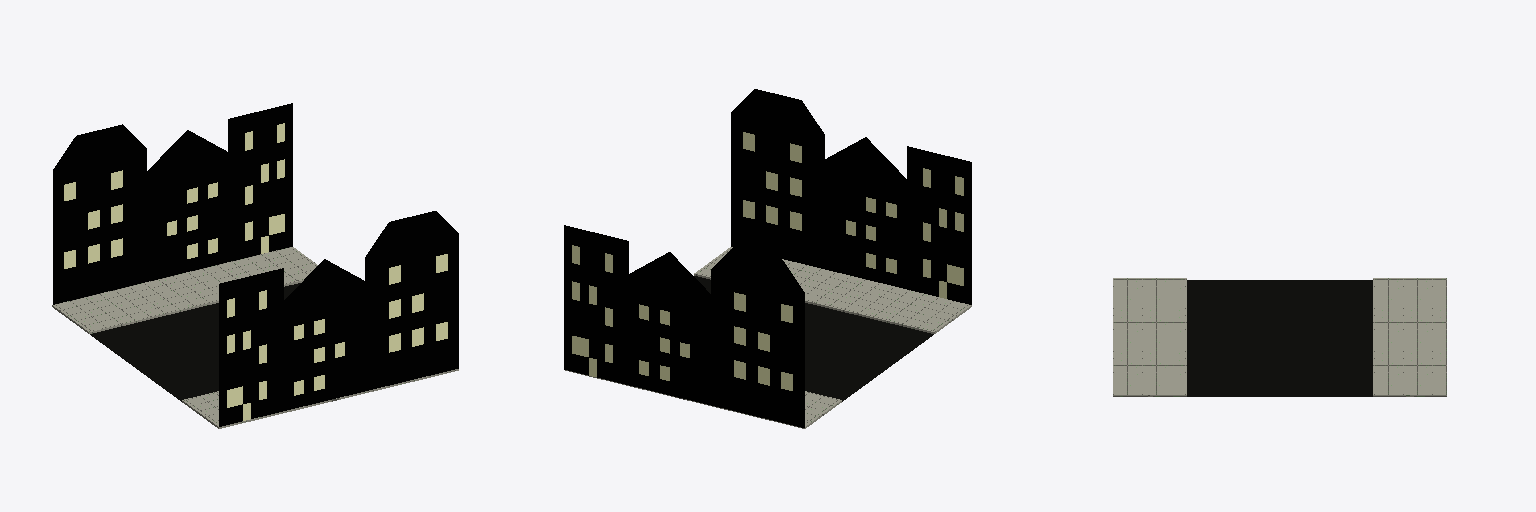
3 renders of one model, left to right at view 1: azimuth 30°, elevation 25°; view 2: azimuth 150°, elevation 25°; view 3: azimuth 270°, elevation 25°, orthographic.
Visible parts, largest first — view 1: Cube.001_Cube.003, Cube.000_Cube.003, Plane; view 2: Cube.000_Cube.003, Cube.001_Cube.003, Plane; view 3: Plane.
Part boxes in pixels (bbox=[...]): Cube.001_Cube.003: bbox=[219, 211, 458, 426]; Cube.000_Cube.003: bbox=[53, 103, 292, 304]; Plane: bbox=[52, 247, 458, 428]; Cube.000_Cube.003: bbox=[564, 225, 804, 427]; Cube.001_Cube.003: bbox=[731, 89, 971, 304]; Plane: bbox=[565, 247, 971, 428]; Plane: bbox=[1113, 278, 1446, 396].
Size of the model in its own units: 15.02 by 9.87 by 18.
6 materials, 4 textured.